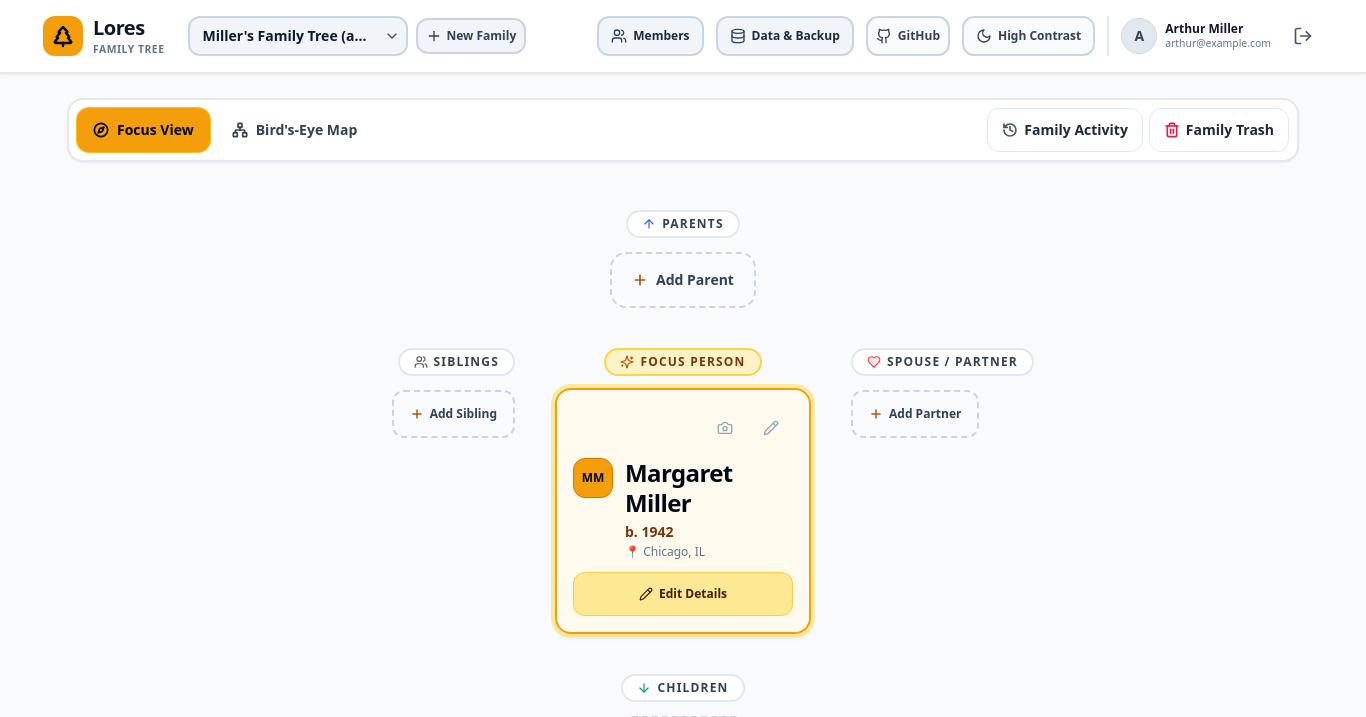
App navigation and modals › opens DataBackupModal when Data & Backup button is clicked in header for admin
What coordinates should you click on to do the following:
click the button with aria-label "Manage Family Data and Backup"
I would click on:
 (785, 36)
Its box is [716,16,854,56].
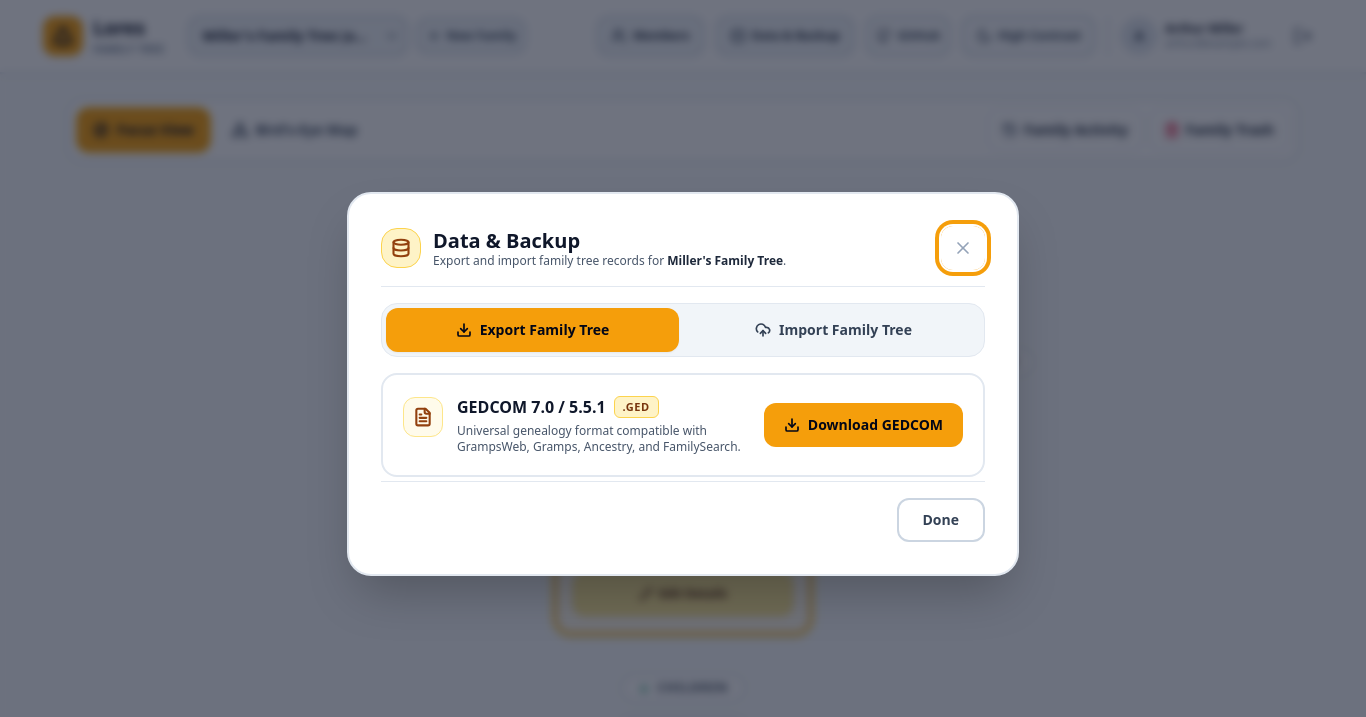
Now the heading "Data & Backup" is shown, box [433,226,580,254]
Now the tab "Export Family Tree" is shown, box [386,308,679,352]
Now the tab "Import Family Tree" is shown, box [687,308,980,352]
